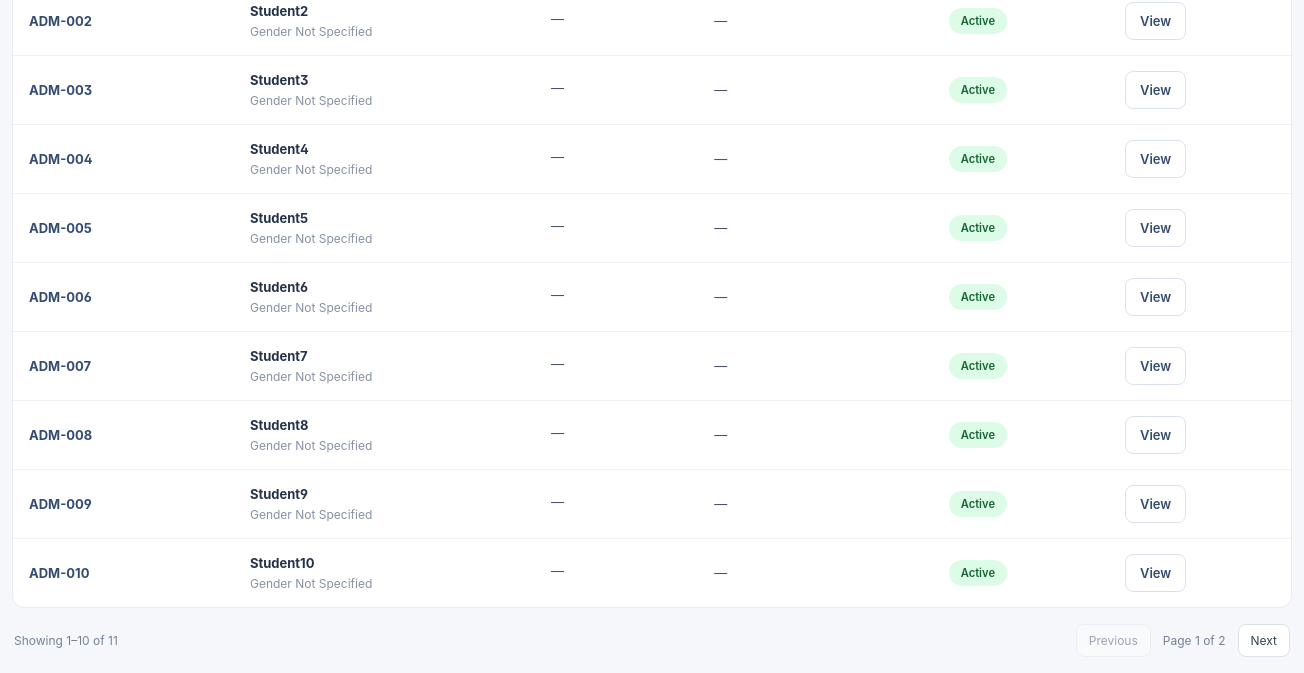
Test: StudentDirectory › loads the next page when Next is clicked
(page scrolled)
Expected: the text "Page 1 of 2" is shown, [1163, 633, 1226, 648]
Click the button "Next" at [1264, 640], box [1238, 624, 1290, 657]
(page scrolled)
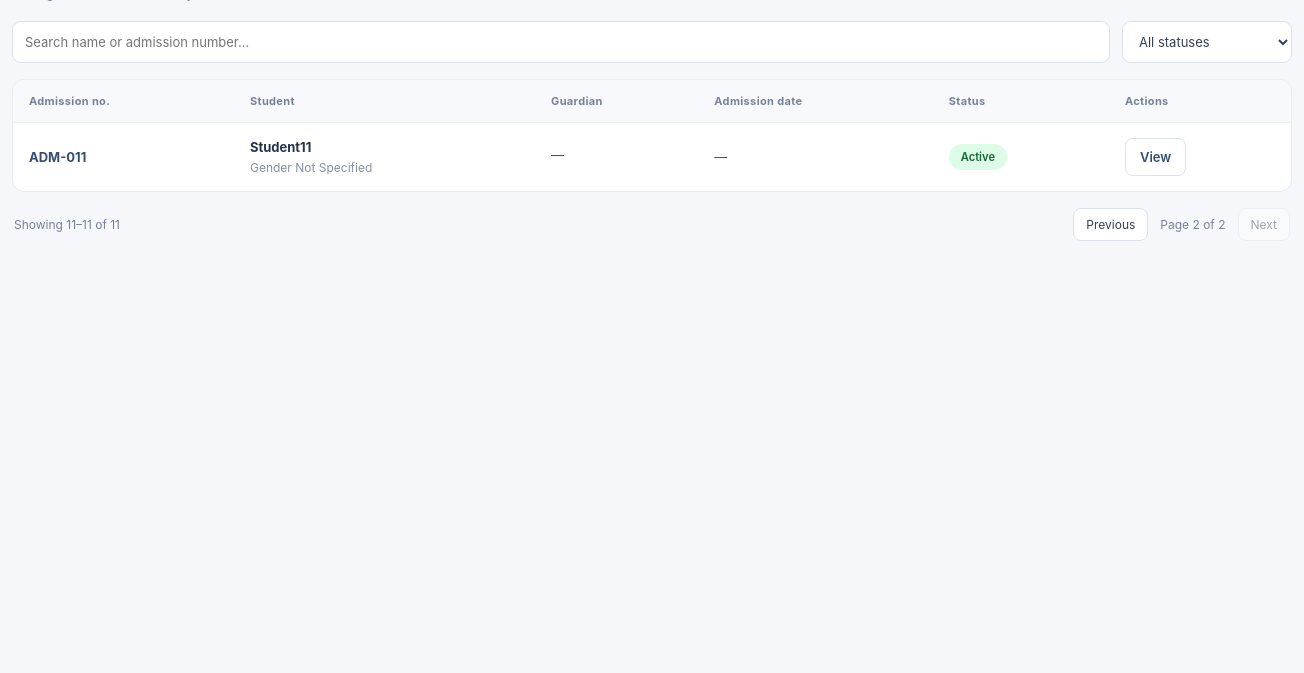
Result: the text "Page 2 of 2" is shown at [1160, 217, 1226, 232]
Result: the text "Showing 11–11 of 11" is shown at [14, 217, 120, 232]
